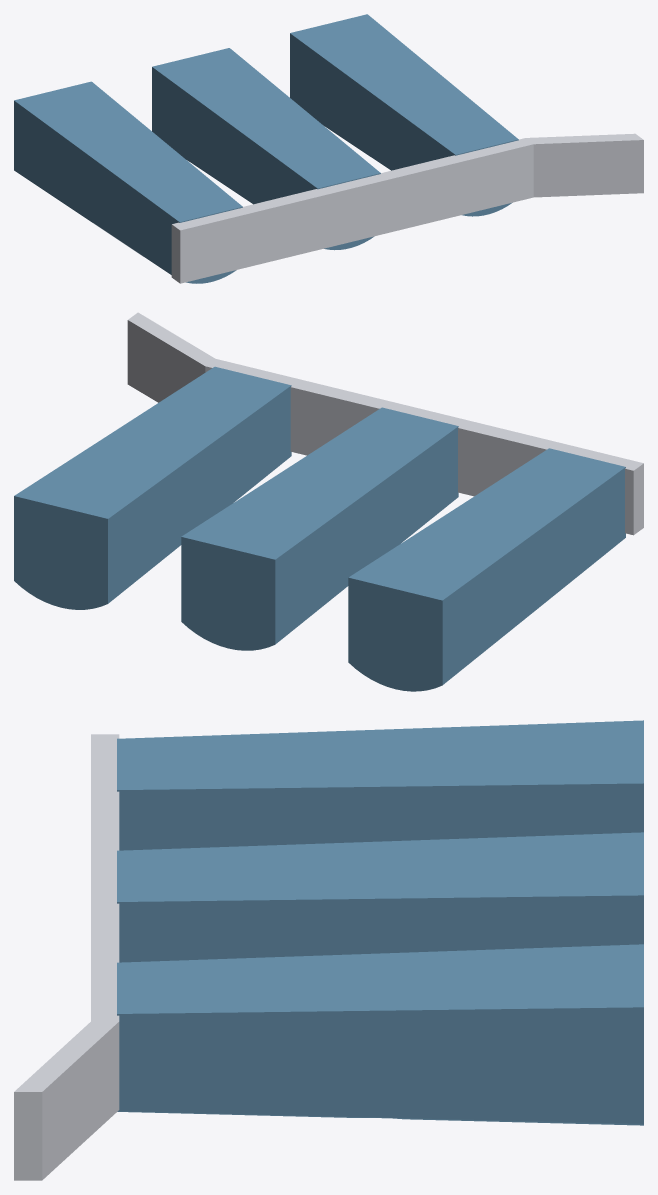
The picture shows the model from 3 angles, top to bottom: view 1: azimuth 30°, elevation 25°; view 2: azimuth 150°, elevation 25°; view 3: azimuth 270°, elevation 25°; orthographic projection. The views are drawn at different scales.
Parts seen in each view (by area): view 1: 3:SkyPark, 0:Tower_1, 2:Tower_3, 1:Tower_2; view 2: 0:Tower_1, 1:Tower_2, 2:Tower_3, 3:SkyPark; view 3: 2:Tower_3, 0:Tower_1, 1:Tower_2, 3:SkyPark.
Part boxes in pixels (x1,y1,x2,y2): 3:SkyPark: (171,133,643,283); 0:Tower_1: (14,81,242,283); 2:Tower_3: (290,14,518,216); 1:Tower_2: (152,48,380,250); 0:Tower_1: (348,448,625,691); 1:Tower_2: (181,407,458,650); 2:Tower_3: (14,366,291,609); 3:SkyPark: (127,312,643,535); 2:Tower_3: (117,944,643,1125); 0:Tower_1: (117,720,643,850); 1:Tower_2: (117,832,643,962); 3:SkyPark: (14,734,119,1180).
Size of the model in its own units: 329 by 59 by 245.
